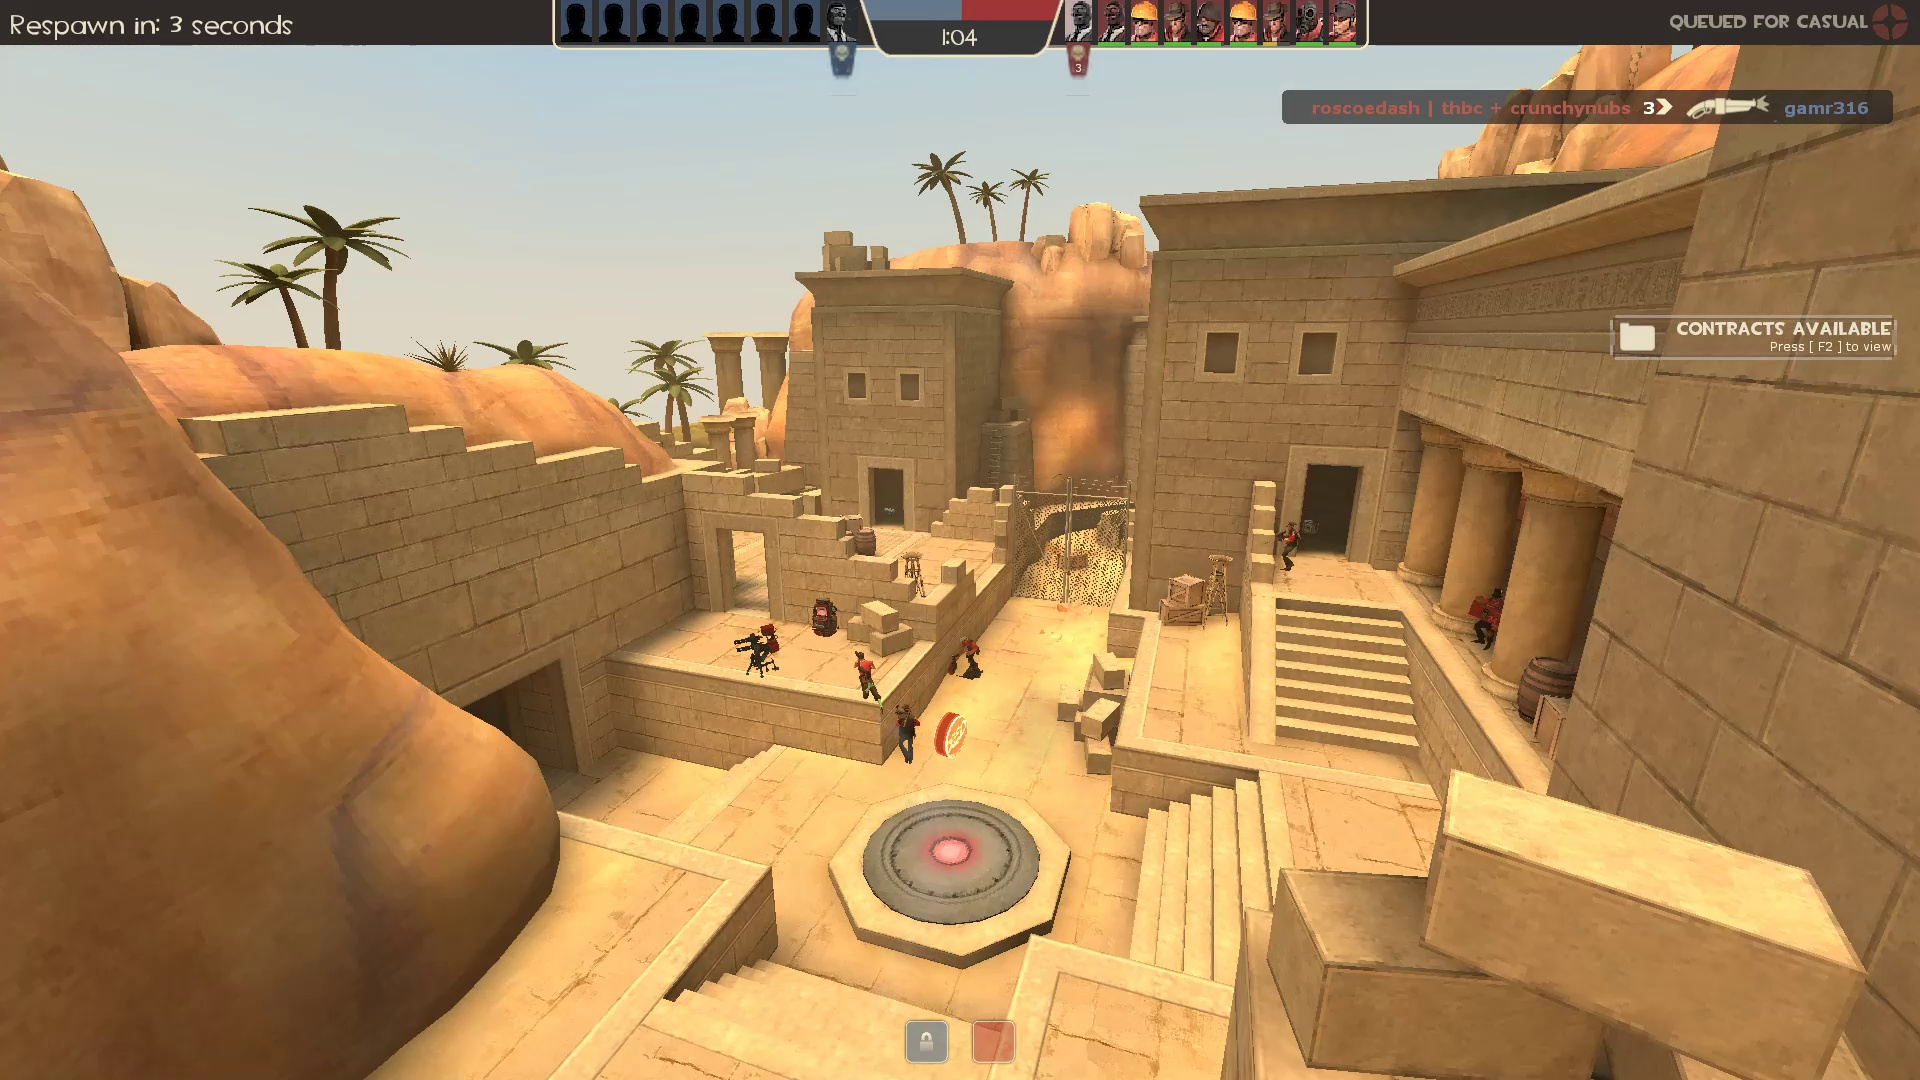red_dispenser: (810, 595, 840, 638)
red_engineer: (1462, 582, 1513, 655), (955, 630, 985, 679)
red_scout: (848, 650, 885, 702)
red_sentry_3: (731, 620, 785, 683)
red_sniper: (887, 700, 924, 766), (1265, 518, 1304, 574)
